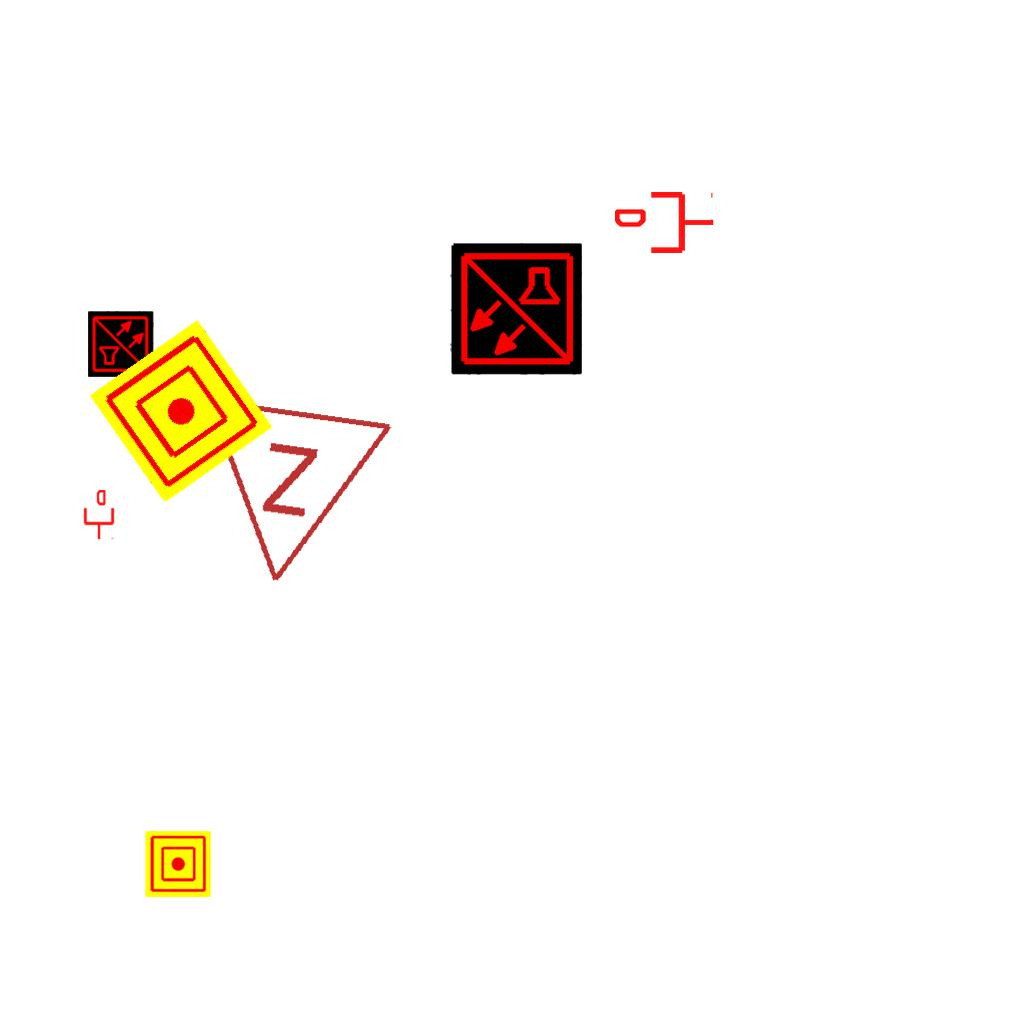Datenanschluss_einfach: (615, 188, 715, 257), (82, 490, 116, 540)
NAM-Nichtautomatischer_Melder: (89, 319, 273, 503), (145, 831, 211, 897)
OKW_Multisensormelder_(Kombination_optischer_Rauch-Kahlenmonoxid_Waerme-Melder): (450, 243, 582, 375), (88, 311, 154, 377)
Zimmersignalleuchte: (179, 383, 401, 609)
